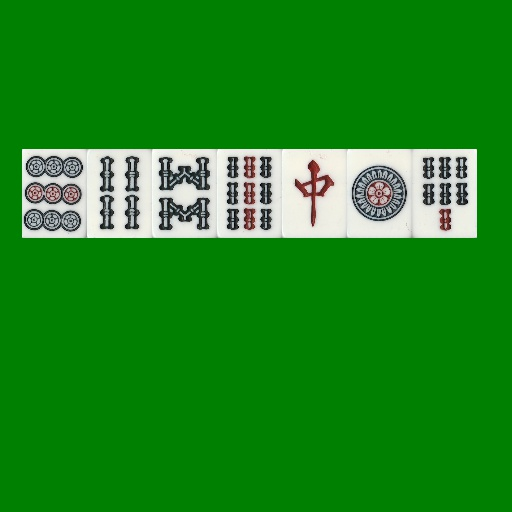1p: (347, 149, 412, 238)
4s: (87, 149, 152, 238)
7s: (412, 149, 477, 238)
8s: (152, 149, 217, 238)
9p: (22, 149, 87, 238)
9s: (217, 149, 282, 238)
tyun: (282, 149, 347, 238)
